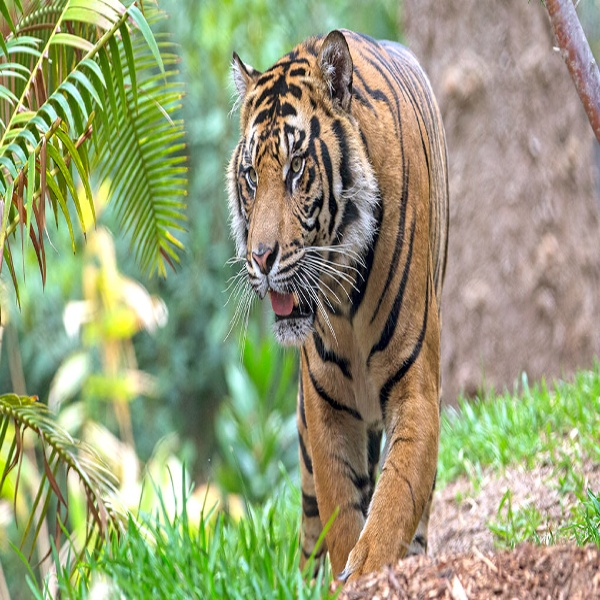Tiger: (212, 26, 464, 584)
